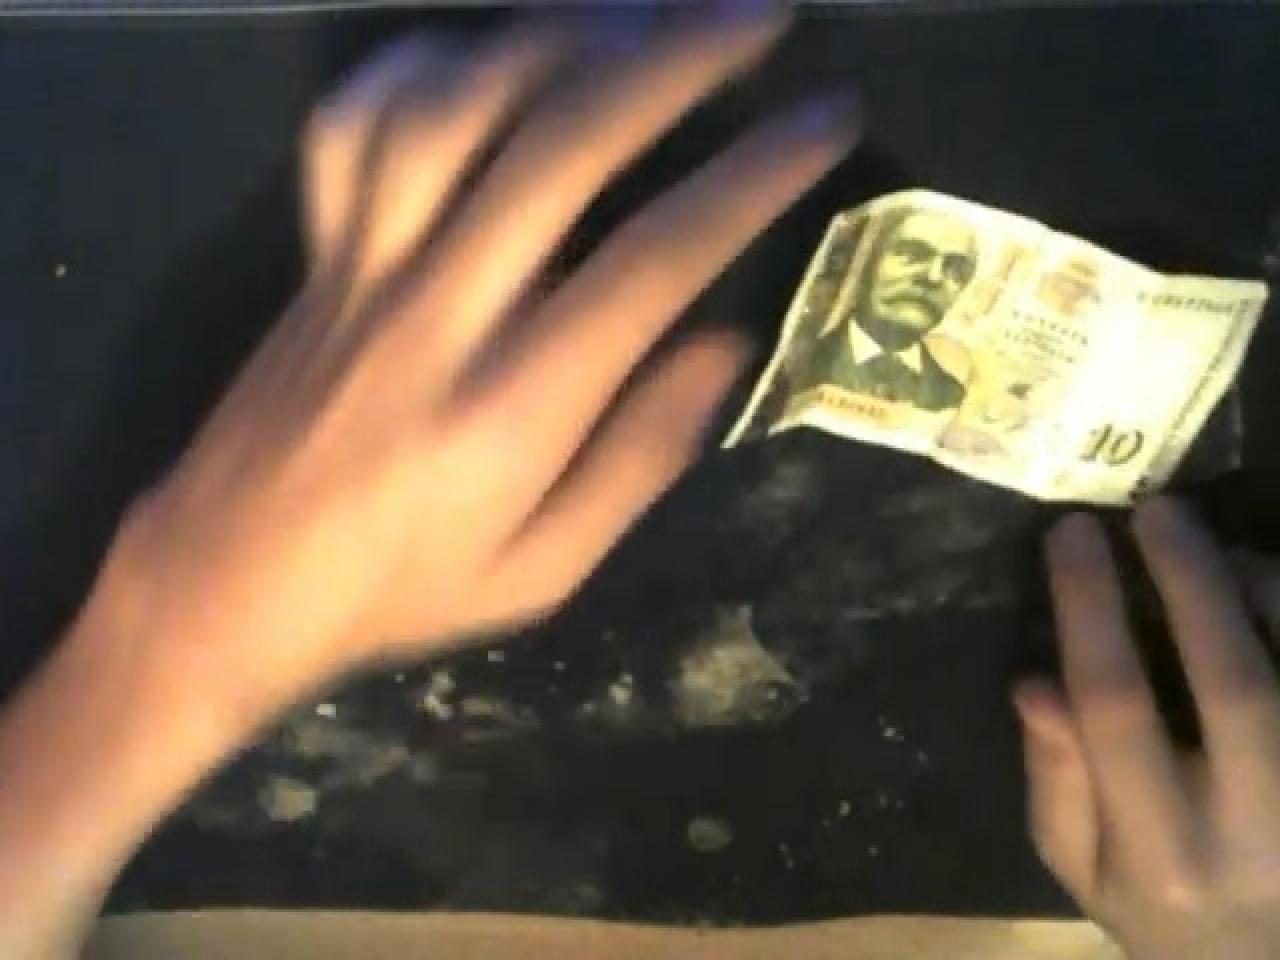10leva: (1071, 388, 1156, 483)
